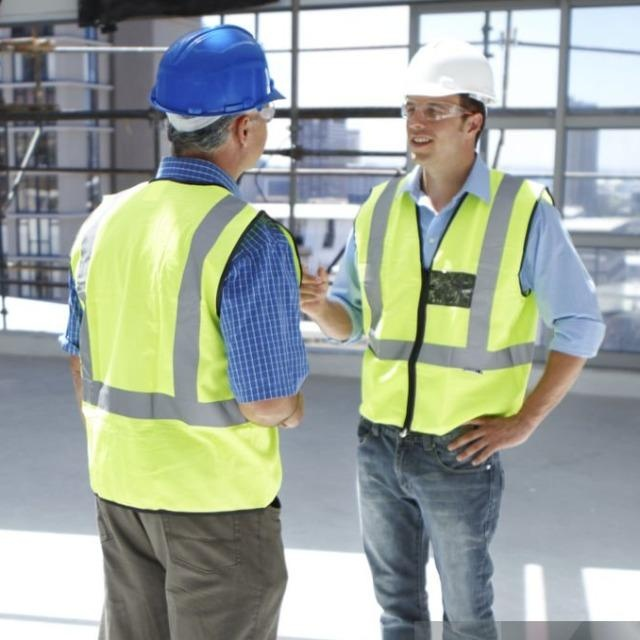Con_Casco: (152, 24, 287, 175), (392, 40, 498, 171)
Con_Chaleco: (78, 186, 293, 511), (349, 166, 547, 453)
